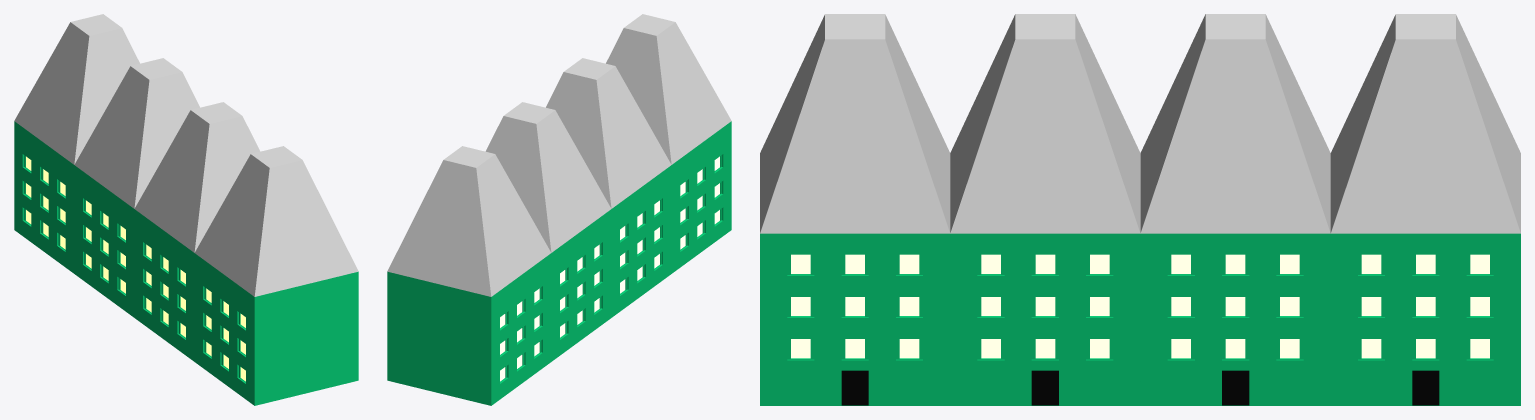
File: 3_storey_house_2(4).fbx
3 renders of one model, left to right at view 1: azimuth 30°, elevation 25°; view 2: azimuth 150°, elevation 25°; view 3: azimuth 270°, elevation 25°, orthographic. The views are drawn at different scales.
Visible parts, largest first — view 1: Cube; view 2: Cube; view 3: Cube.
Part boxes in pixels (bbox=[...]): Cube: bbox=[14, 14, 358, 405]; Cube: bbox=[387, 14, 731, 405]; Cube: bbox=[760, 14, 1520, 405].
Bounding box in the file's own units: 28 × 55.07 × 112.
